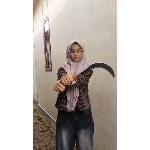Celurit: (55, 60, 117, 92)
